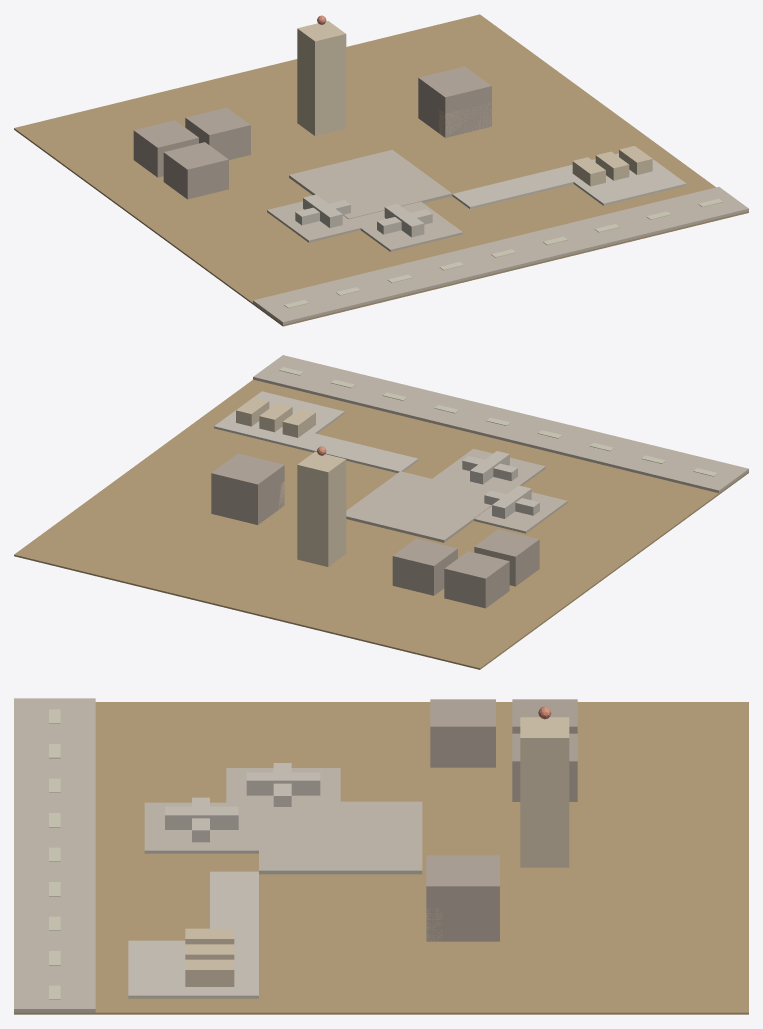
Rendered from stage_10.glb.
The picture shows the model from 3 angles, top to bottom: view 1: azimuth 30°, elevation 25°; view 2: azimuth 150°, elevation 25°; view 3: azimuth 270°, elevation 25°; orthographic projection. The views are drawn at different scales.
Parts seen in each view (by area): view 1: geometry_0; view 2: geometry_0; view 3: geometry_0.
Boxes of the visible parts, <box> form: geometry_0: <box>14,14,748,326</box>; geometry_0: <box>14,355,748,669</box>; geometry_0: <box>14,698,748,1014</box>.
Bounding box in the file's own units: 9 × 2.06 × 9.
